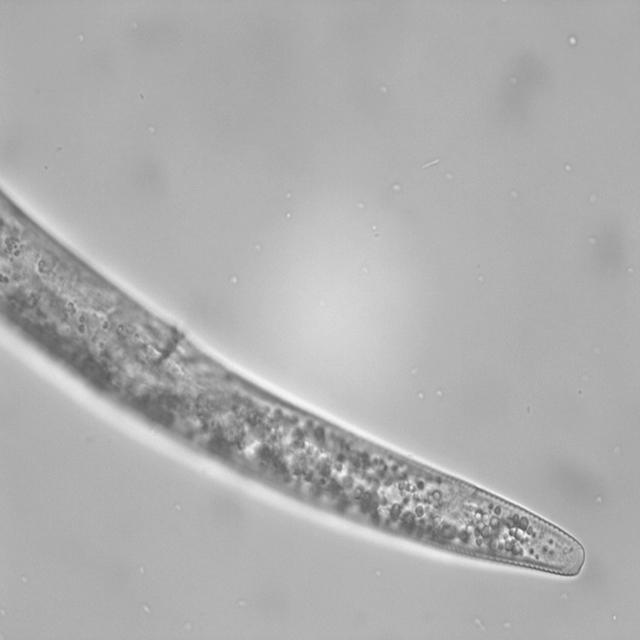Pratylenchus: (347, 440, 593, 587)
